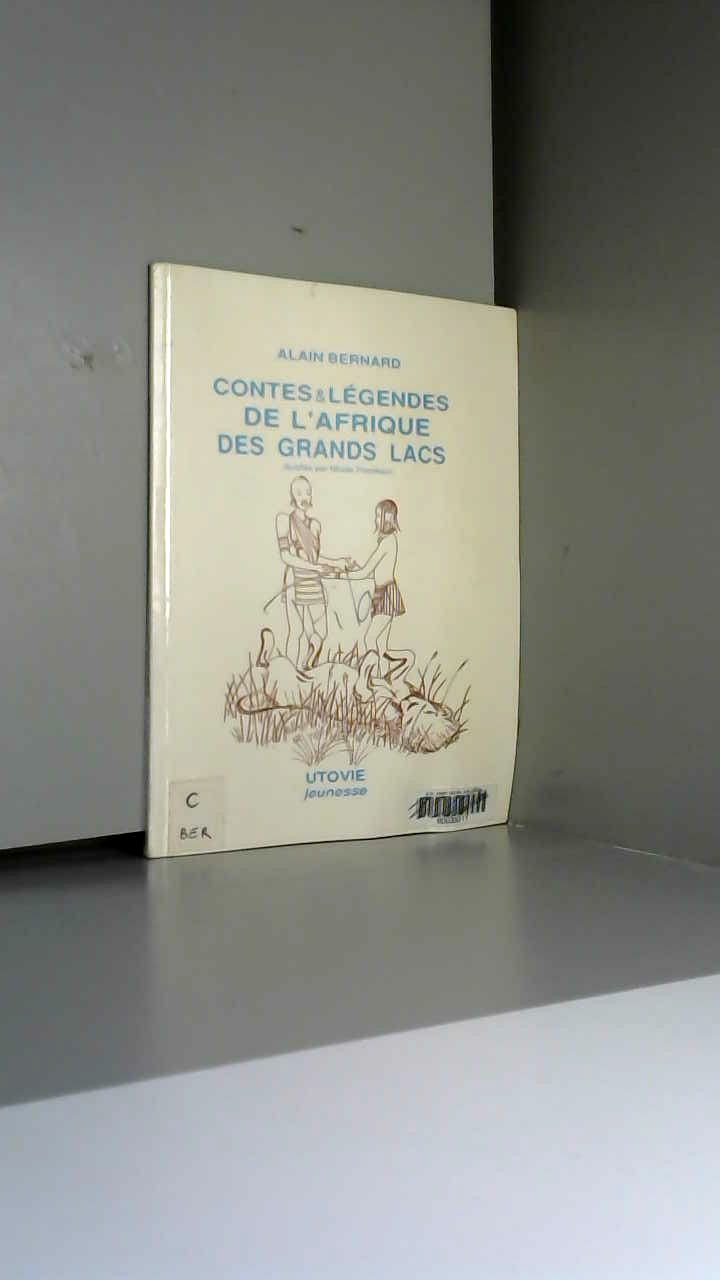book: (119, 231, 556, 893)
